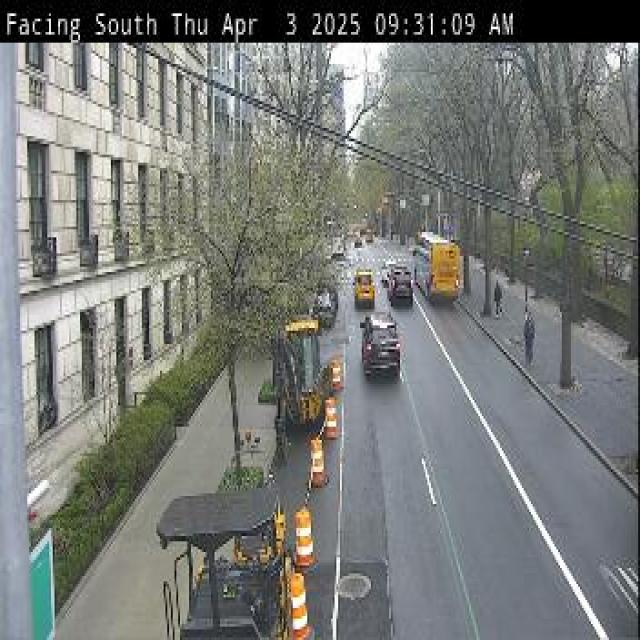open parking: (264, 331, 341, 622)
